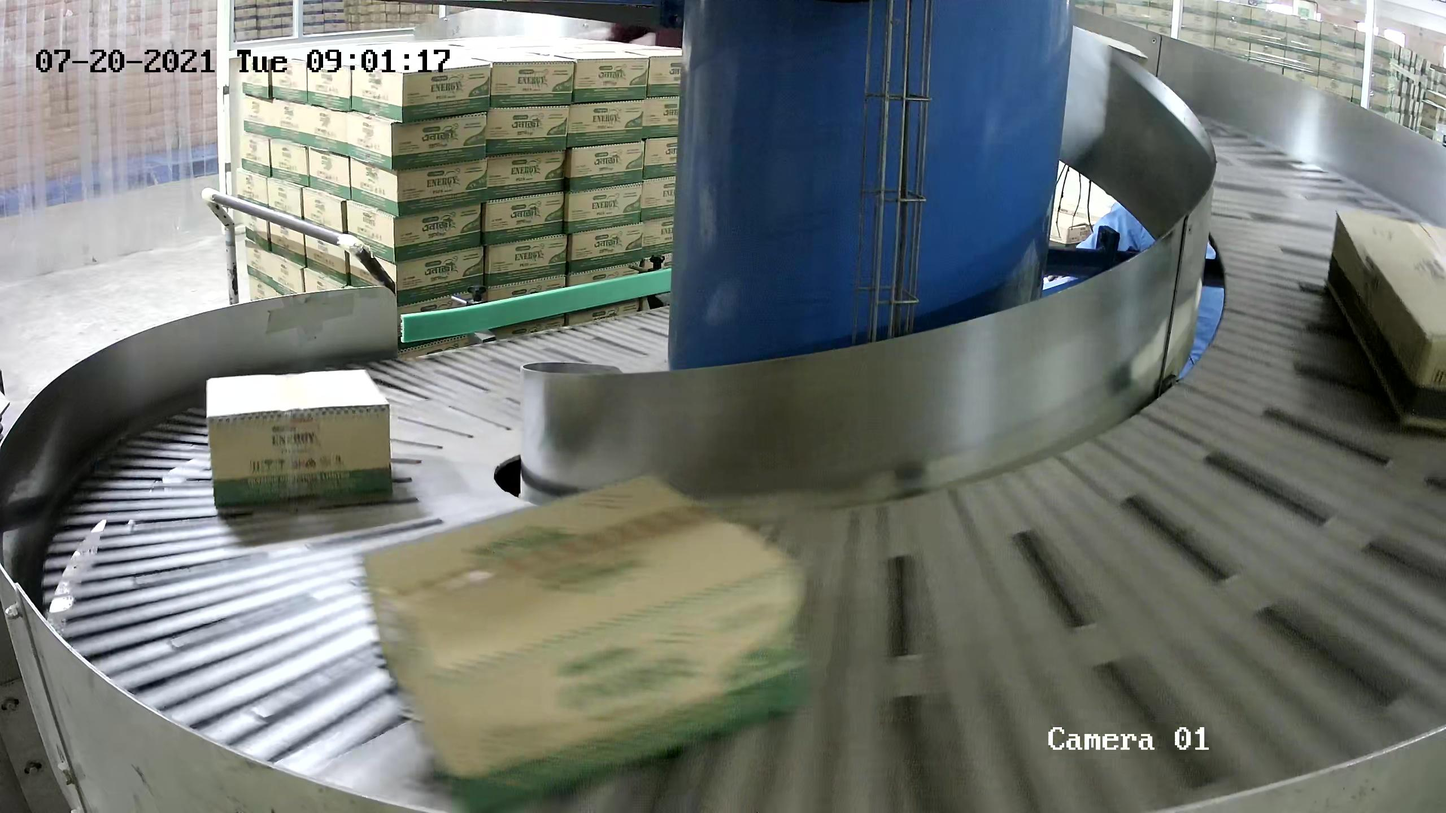Box: (360, 466, 817, 810), (1326, 200, 1446, 443), (210, 367, 396, 508)
